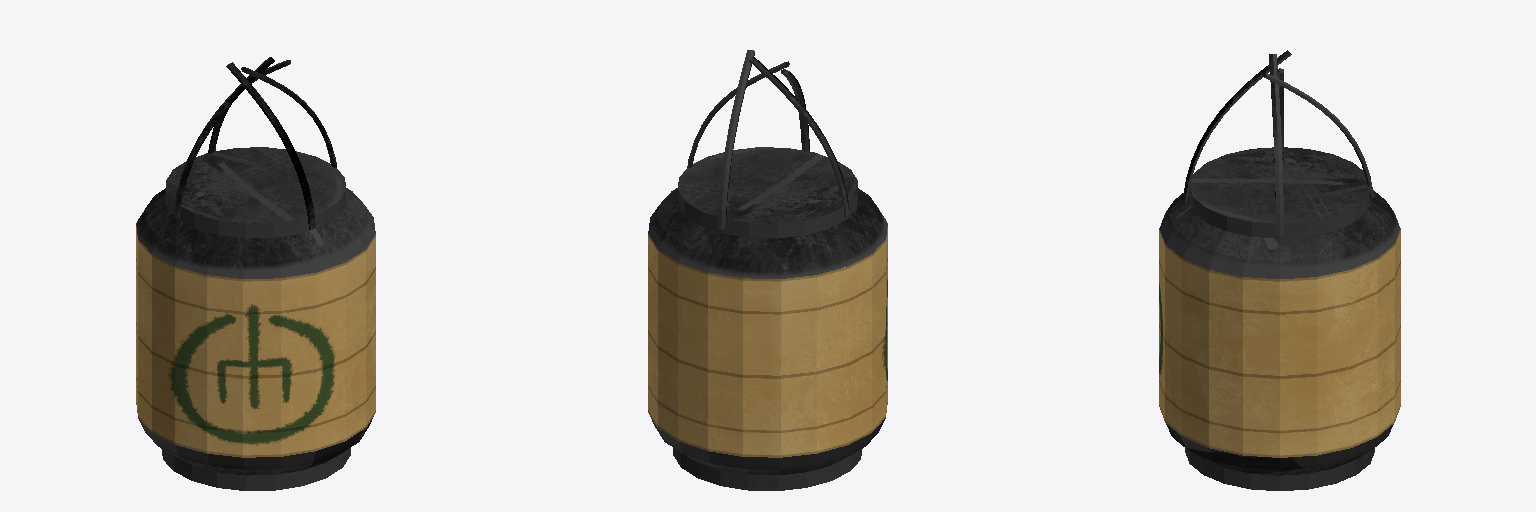
3 views of the same model, side by side, from view 1: azimuth 30°, elevation 25°; view 2: azimuth 150°, elevation 25°; view 3: azimuth 270°, elevation 25° (orthographic).
Visible parts, largest first — view 1: HandLanternBody_lambert2SG, HandLanternBody_lambert3SG, HandLanternBody_lambert3SG_1, HandLanternHook2_lambert3SG, HandLanternHook_lambert3SG, HandLanternHook1_lambert3SG; view 2: HandLanternBody_lambert2SG, HandLanternBody_lambert3SG, HandLanternBody_lambert3SG_1, HandLanternHook3_lambert3SG, HandLanternHook_lambert3SG, HandLanternHook1_lambert3SG, HandLanternHook2_lambert3SG; view 3: HandLanternBody_lambert2SG, HandLanternBody_lambert3SG, HandLanternBody_lambert3SG_1, HandLanternHook1_lambert3SG, HandLanternHook2_lambert3SG, HandLanternHook3_lambert3SG.
Boxes of the visible parts, box(x1,y1,x2,y2) form: HandLanternBody_lambert2SG: box(136, 226, 375, 457); HandLanternBody_lambert3SG: box(138, 147, 373, 490); HandLanternBody_lambert3SG_1: box(136, 188, 375, 278); HandLanternHook2_lambert3SG: box(226, 62, 315, 229); HandLanternHook_lambert3SG: box(174, 57, 274, 217); HandLanternHook1_lambert3SG: box(241, 67, 336, 167); HandLanternBody_lambert2SG: box(648, 226, 887, 457); HandLanternBody_lambert3SG: box(650, 147, 885, 490); HandLanternBody_lambert3SG_1: box(648, 188, 887, 278); HandLanternHook3_lambert3SG: box(718, 50, 754, 229); HandLanternHook_lambert3SG: box(749, 57, 849, 217); HandLanternHook1_lambert3SG: box(687, 61, 789, 167); HandLanternHook2_lambert3SG: box(781, 69, 809, 150); HandLanternBody_lambert2SG: box(1159, 229, 1400, 457); HandLanternBody_lambert3SG: box(1166, 147, 1393, 490); HandLanternBody_lambert3SG_1: box(1159, 189, 1400, 278); HandLanternHook1_lambert3SG: box(1269, 54, 1283, 235); HandLanternHook2_lambert3SG: box(1183, 50, 1291, 201); HandLanternHook3_lambert3SG: box(1263, 72, 1373, 198).
Size of the model in its own units: 1.6 by 2.85 by 1.6.
Materials: 2 (2 with a texture image).